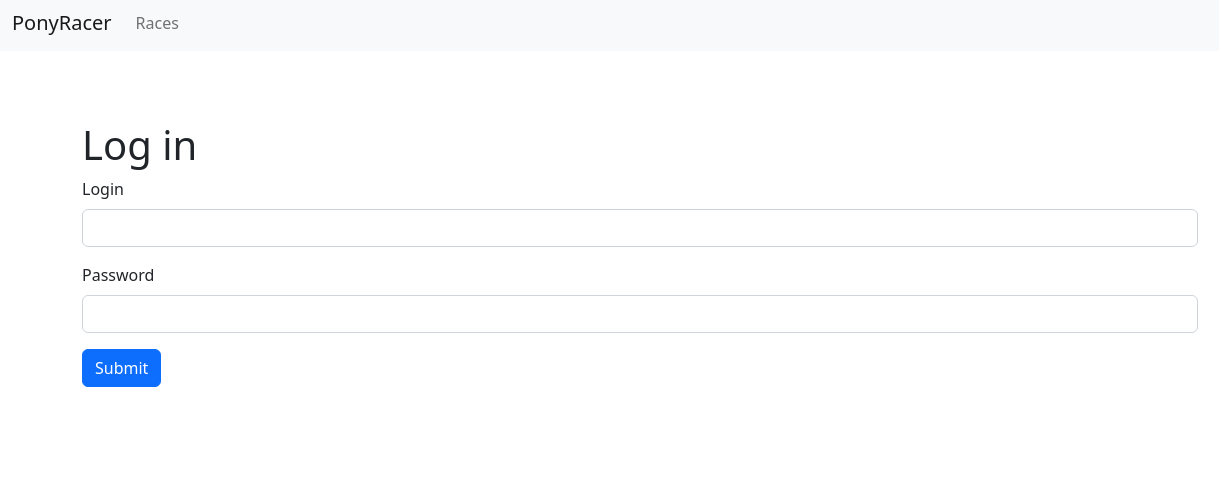
Test: Login › should display an alert if login fails
The width and height of the screenshot is (1219, 482).
In the field labelled "Login": (640, 228) x1=82 y1=209 x2=1198 y2=247, type "ced"
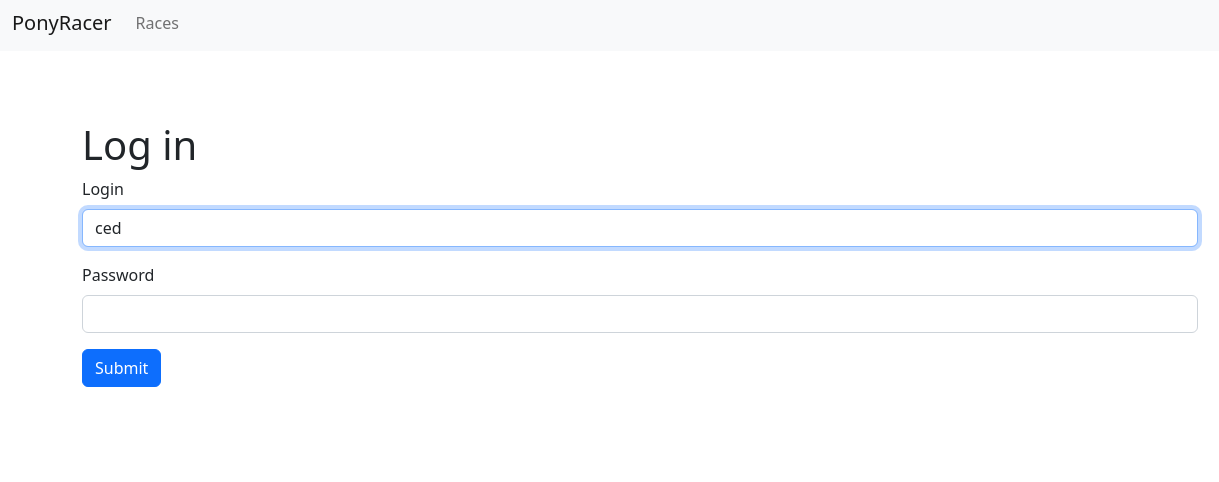
In the password field labelled "Password": (640, 314) x1=82 y1=295 x2=1198 y2=333, type "pa"
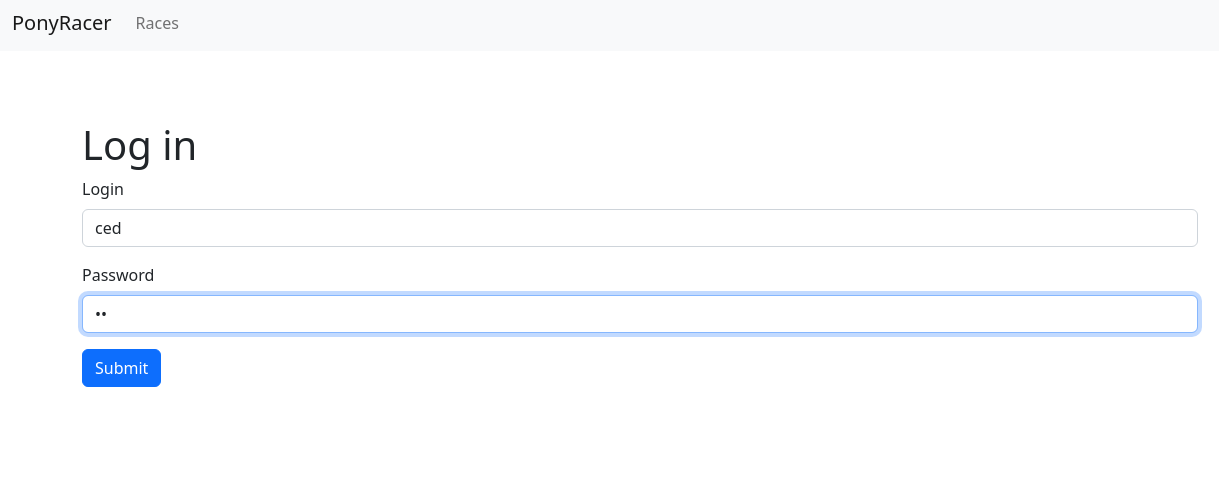
Click the button "Submit": (122, 368) x1=82 y1=349 x2=161 y2=387
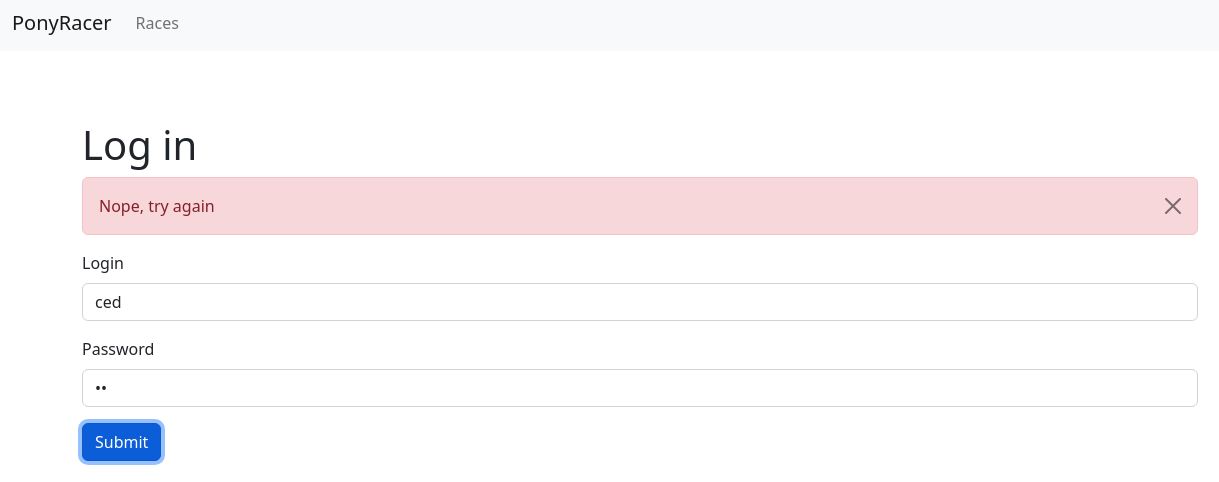
Now the element with class "alert-danger" reads "Nope, try again", box x1=99 y1=195 x2=215 y2=217
